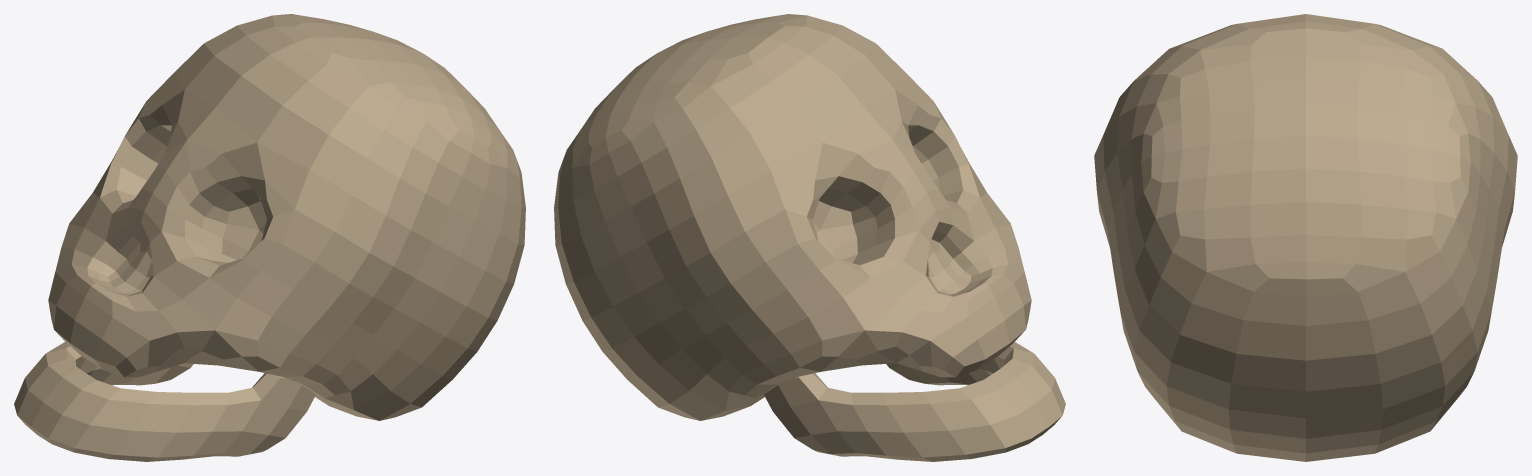
File: Skull.glb
3 renders of one model, left to right at view 1: azimuth 30°, elevation 25°; view 2: azimuth 150°, elevation 25°; view 3: azimuth 270°, elevation 25°, orthographic. The views are drawn at different scales.
Parts seen in each view (by area): view 1: Skull; view 2: Skull; view 3: Skull.
Boxes of the visible parts, box(x1,y1,x2,y2) form: Skull: box(14, 14, 525, 461); Skull: box(554, 14, 1065, 461); Skull: box(1094, 14, 1517, 461).
Size of the model in its own units: 0.6006 by 0.461 by 0.4383.
